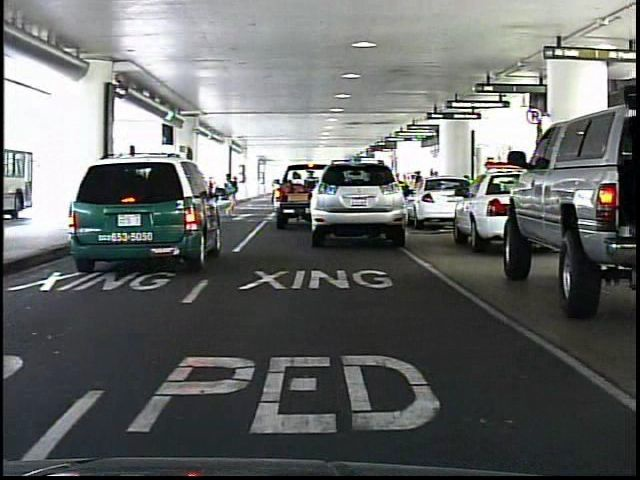person: (216, 168, 240, 221)
